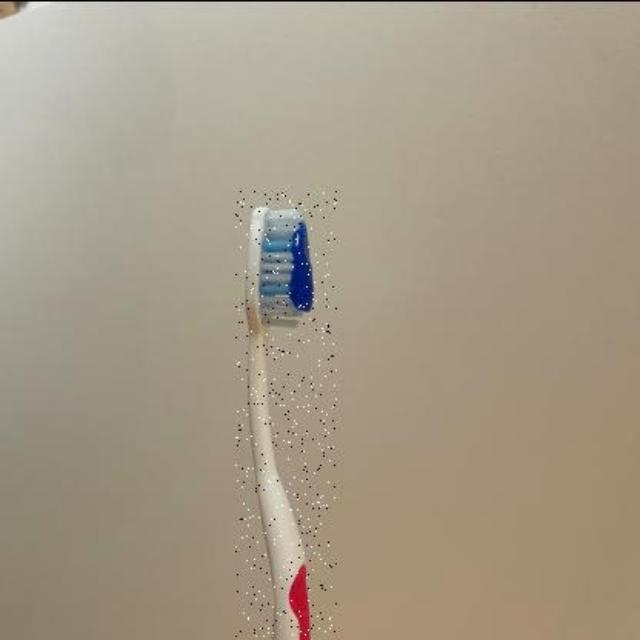toothbrush: (234, 190, 336, 640)
